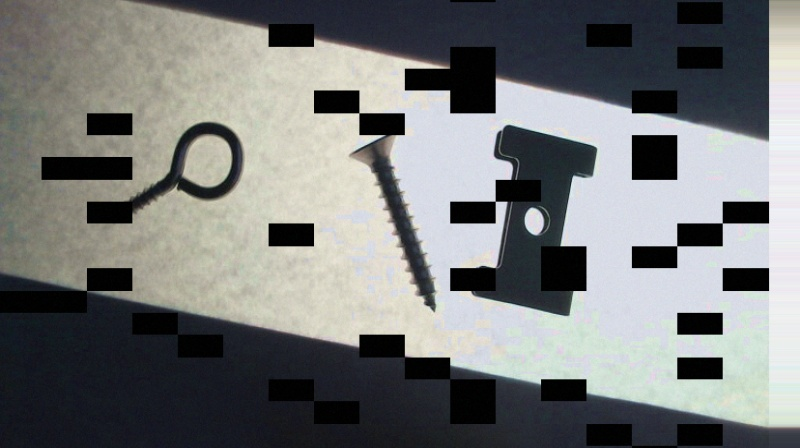O001: (102, 108, 246, 228)
O002: (468, 121, 602, 317)
S001: (340, 129, 445, 319)
